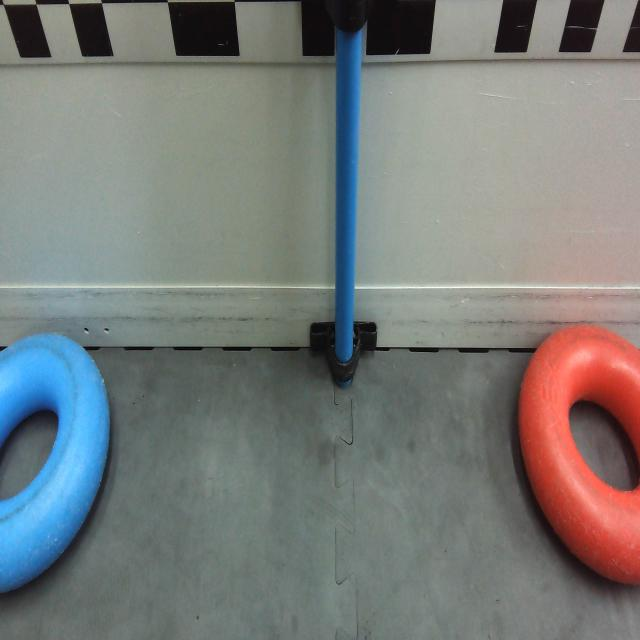Blue-Ring: (1, 332, 110, 590)
Red-Ring: (516, 323, 640, 585)
